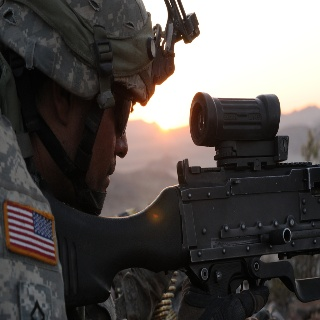rifle: (38, 90, 320, 308)
